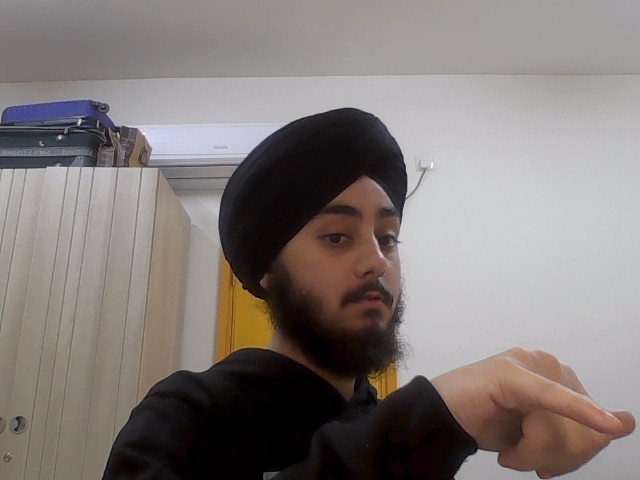Same: (453, 331, 640, 479)
